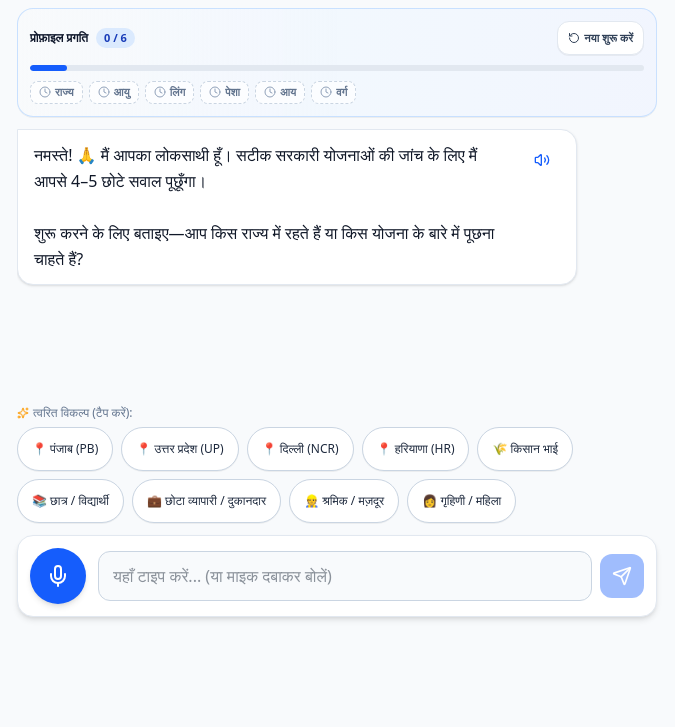
Test case: VoiceInterview Component › aborts stalled 2G requests within ~4.5s and advances seamlessly via local deterministic engine with zero raw error exposure
Type "मैं उत्तर प्रदेश का किसान हूँ" into the field with placeholder "यहाँ टाइप करें... (या माइक दबाकर बोलें)" at (345, 576), box [98, 550, 592, 600]
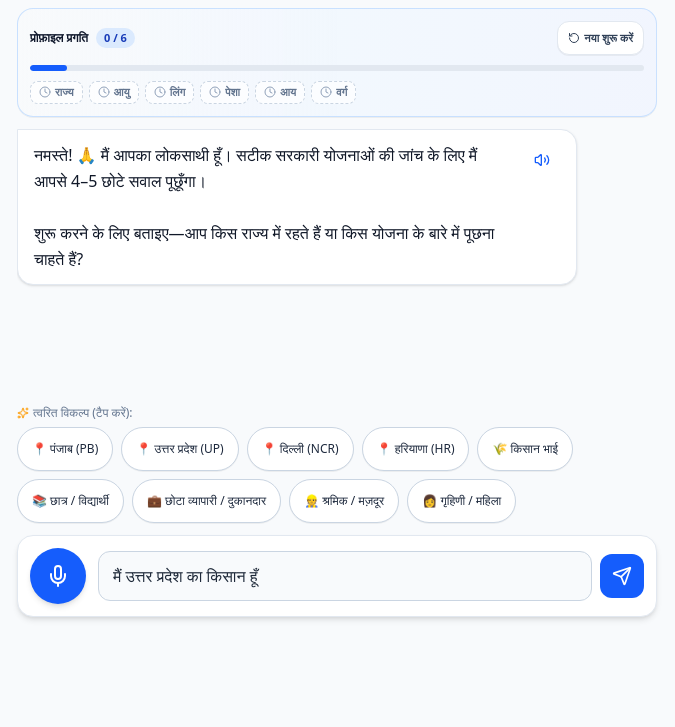
Submit the form, box [98, 550, 644, 600]
Wait 4600 ms
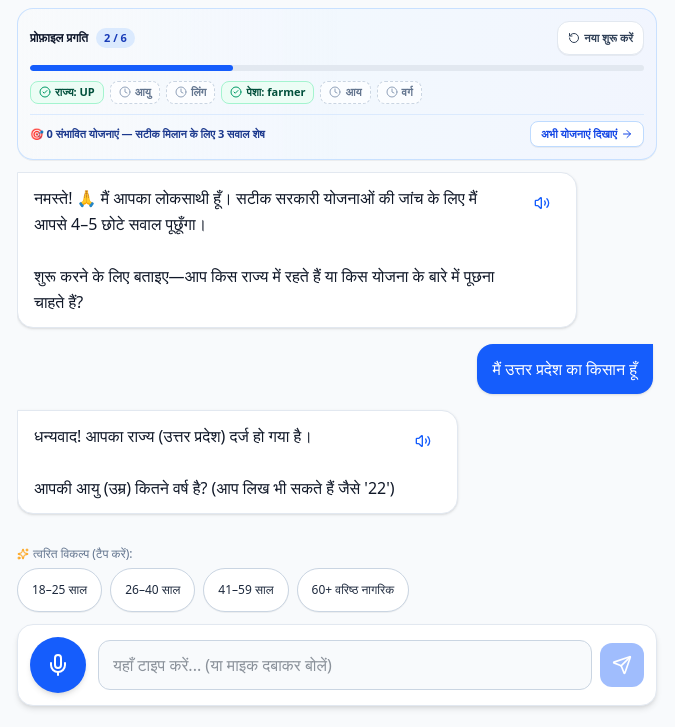
Expected: the text "2 / 6" is shown, [96, 28, 135, 48]
